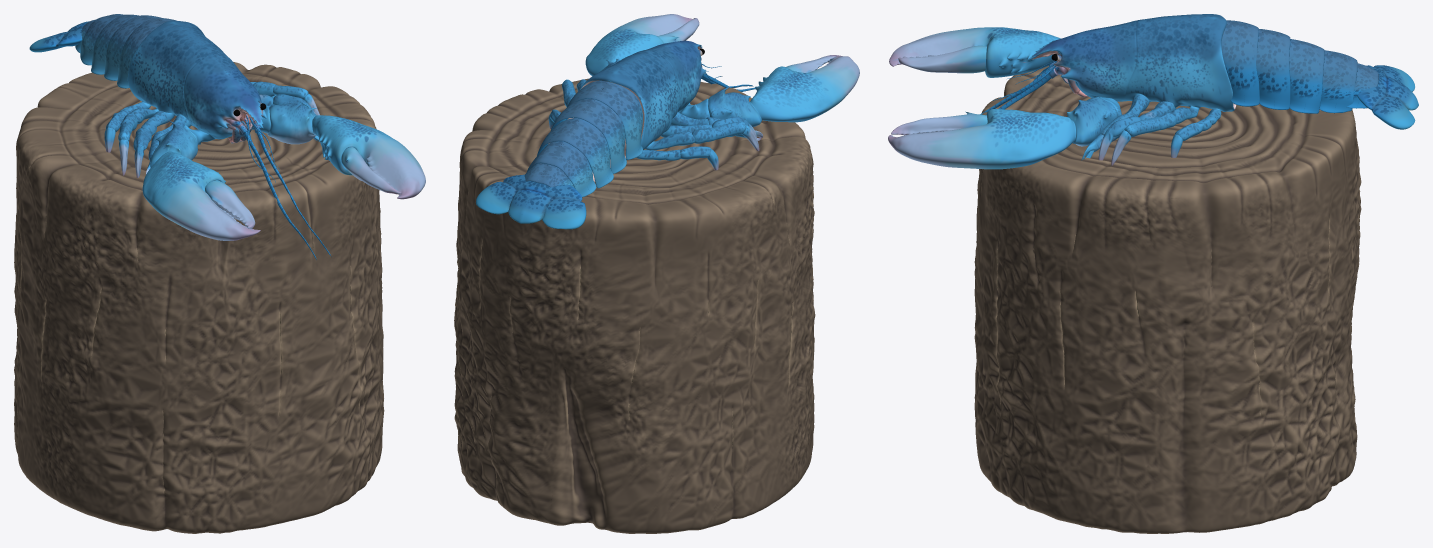
The model's file is lobster2.fbx.
3 renders of one model, left to right at view 1: azimuth 30°, elevation 25°; view 2: azimuth 150°, elevation 25°; view 3: azimuth 270°, elevation 25°, orthographic. The views are drawn at different scales.
Parts seen in each view (by area): view 1: Cylinder, Cube, Plane.005, Plane.008, Plane.001, Cube.001, Plane.002, Cylinder.001; view 2: Cylinder, Cube, Cube.001, Plane.001, Plane.008, Plane.005, Plane.002, Plane.003; view 3: Cylinder, Cube, Plane.008, Cube.001, Plane.005, Plane.001, Plane.002, Plane.003.
Boxes of the visible parts, x1,y1,x2,y2 form: Cylinder: (14,62,384,533); Cube: (104,20,425,240); Plane.005: (104,15,161,80); Plane.008: (117,18,176,88); Plane.001: (91,14,138,74); Cube.001: (29,21,89,52); Plane.002: (80,14,124,65); Cylinder.001: (226,119,316,259); Cylinder: (454,78,815,533); Cube: (548,14,859,182); Cube.001: (476,174,586,229); Plane.001: (537,118,613,188); Plane.008: (566,80,642,159); Plane.005: (551,98,626,173); Plane.002: (527,141,596,197); Plane.003: (524,163,574,187); Cylinder: (974,66,1361,533); Cube: (888,14,1320,169); Plane.008: (1221,20,1259,106); Cube.001: (1357,65,1418,129); Plane.005: (1256,29,1290,109); Plane.001: (1289,39,1324,113); Plane.002: (1319,50,1357,113); Plane.003: (1346,63,1378,108).
Size of the model in its own units: 586 by 746 by 810.
Materials: 9 (8 with a texture image).
